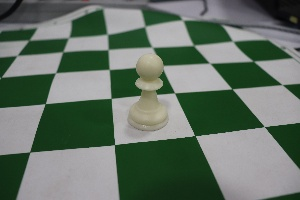white_pawn: (123, 40, 179, 140)
